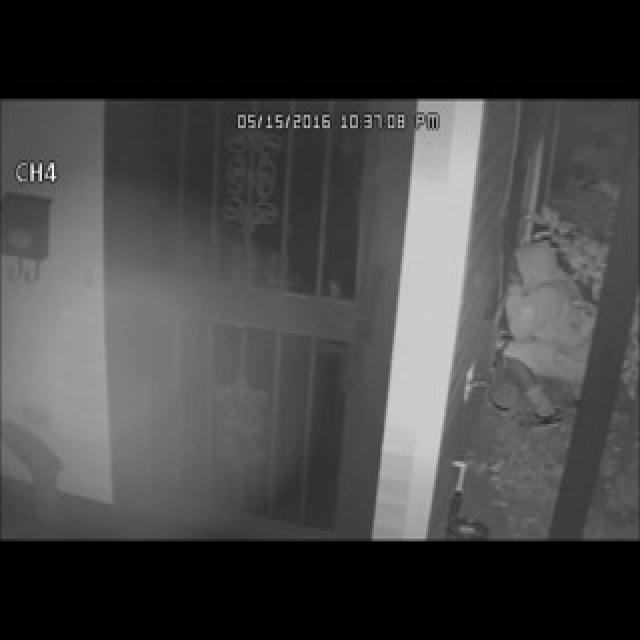thief: (487, 232, 595, 407)
